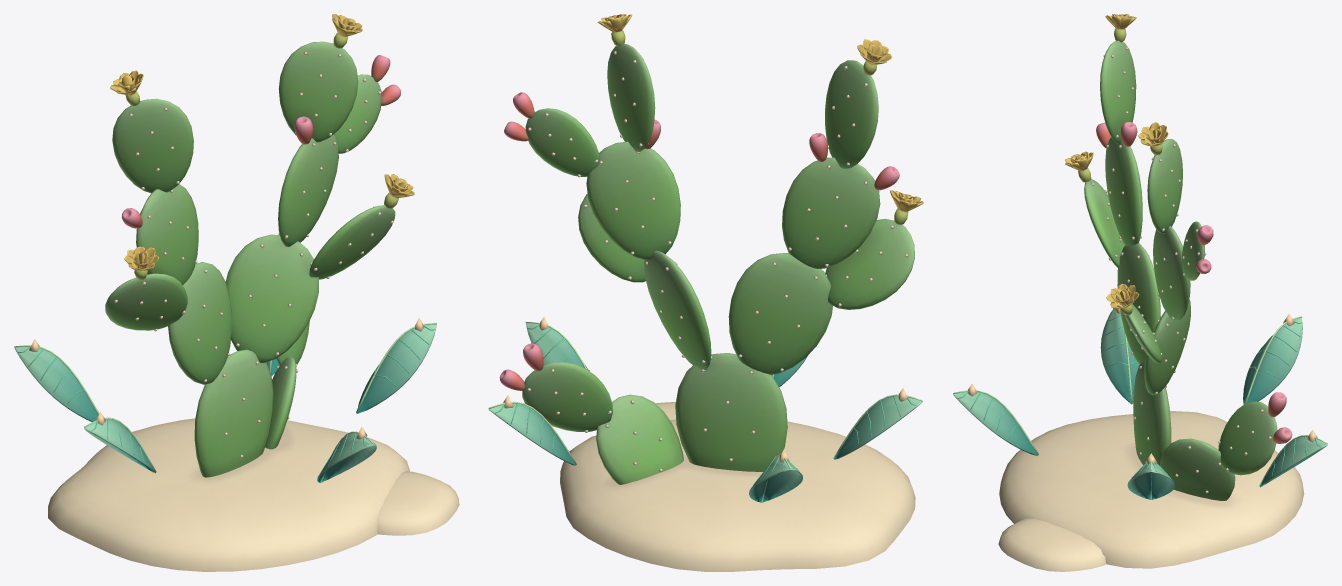
Rendered from enchanted-cactusfruit.glb.
The picture shows the model from 3 angles, left to right: view 1: azimuth 30°, elevation 25°; view 2: azimuth 150°, elevation 25°; view 3: azimuth 270°, elevation 25°; orthographic projection. The views are drawn at different scales.
Visible parts, largest first — view 1: prickly-pear_body, enchanted-cactusfruit-sculpted-details; view 2: prickly-pear_body, enchanted-cactusfruit-sculpted-details; view 3: prickly-pear_body, enchanted-cactusfruit-sculpted-details.
Part boxes in pixels (bbox=[...]): prickly-pear_body: bbox=[48, 14, 459, 571]; enchanted-cactusfruit-sculpted-details: bbox=[14, 318, 436, 482]; prickly-pear_body: bbox=[499, 14, 923, 571]; enchanted-cactusfruit-sculpted-details: bbox=[488, 317, 922, 502]; prickly-pear_body: bbox=[998, 14, 1304, 571]; enchanted-cactusfruit-sculpted-details: bbox=[953, 308, 1327, 499].
Bounding box in the file's own units: 0.7013 × 0.8404 × 0.6653.
2 materials, 1 textured.
